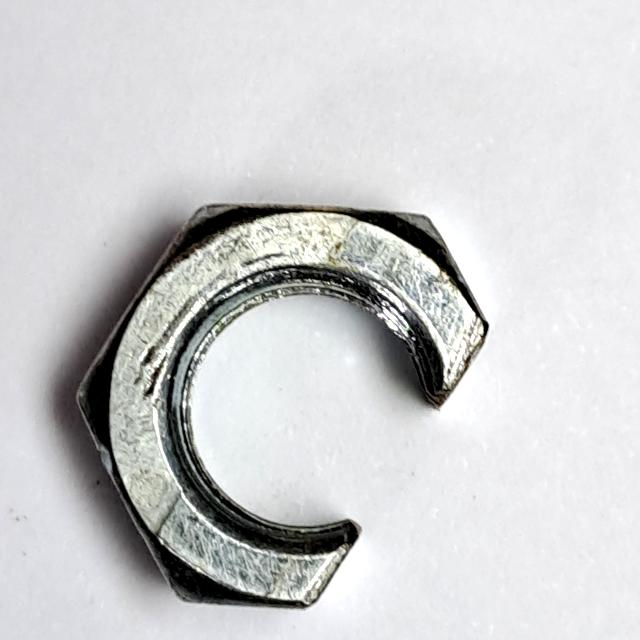Fracture: (66, 194, 511, 618)
